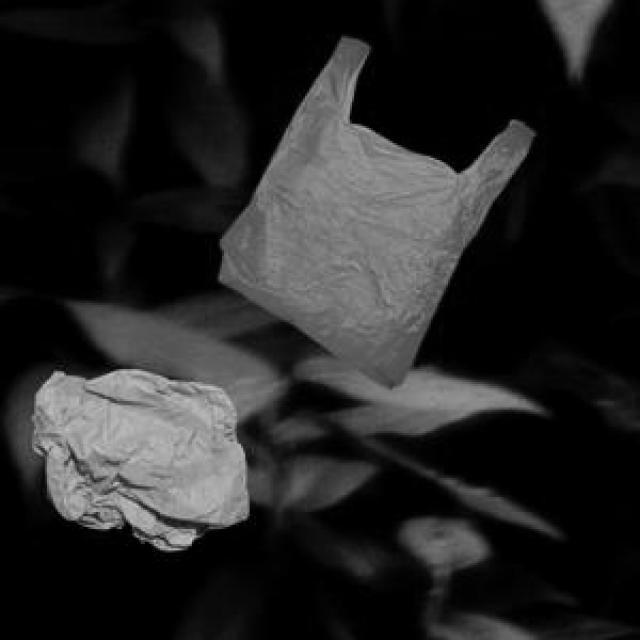miscellaneous trash: (216, 32, 531, 386)
paper: (30, 365, 245, 546)
